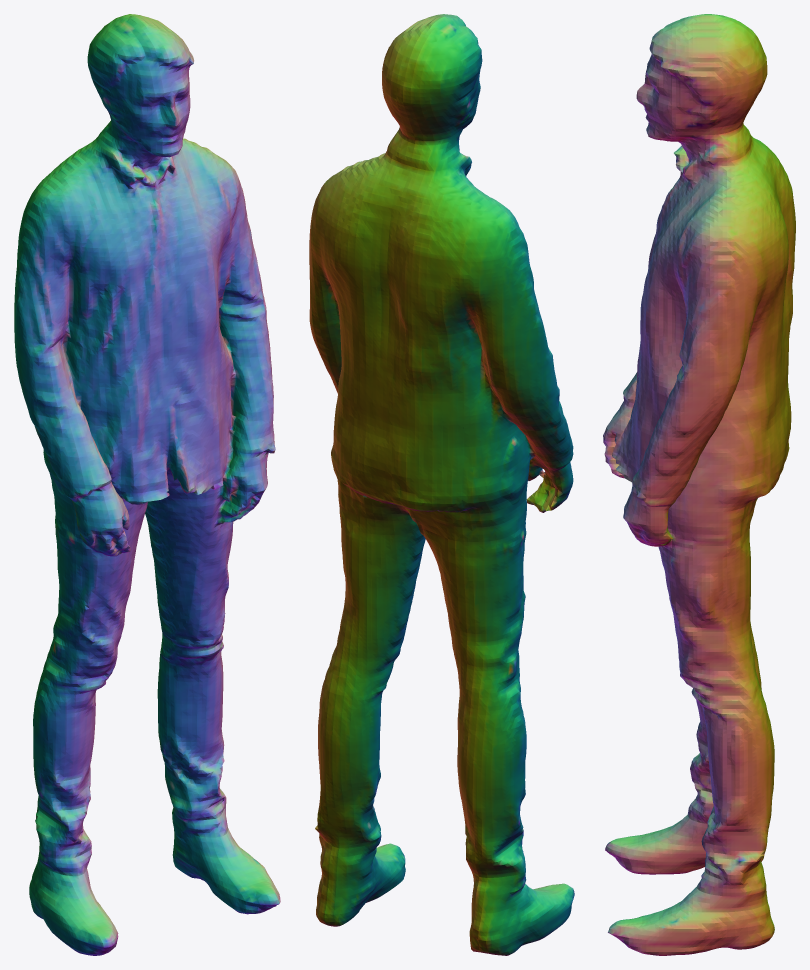
The picture shows the model from 3 angles, left to right: view 1: azimuth 30°, elevation 25°; view 2: azimuth 150°, elevation 25°; view 3: azimuth 270°, elevation 25°; orthographic projection.
Bounding box in the file's own units: 0.4931 × 1.81 × 0.3558.
